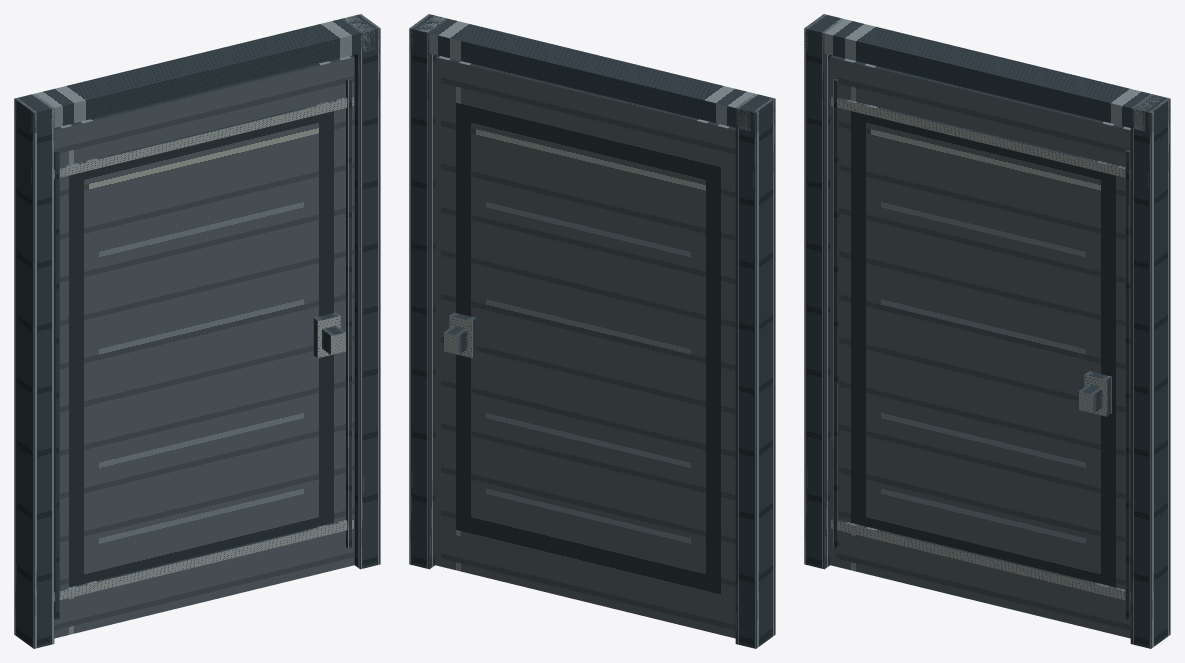
Rendered from puerta_electronica_opaca.glb.
The picture shows the model from 3 angles, left to right: view 1: azimuth 30°, elevation 25°; view 2: azimuth 150°, elevation 25°; view 3: azimuth 330°, elevation 25°; orthographic projection.
Parts seen in each view (by area): view 1: HOJA_PIVOTE, MARCO_FIJO; view 2: HOJA_PIVOTE, MARCO_FIJO; view 3: HOJA_PIVOTE, MARCO_FIJO.
Part boxes in pixels (box(x1,y1,x2,y2)): HOJA_PIVOTE: box(54, 55, 354, 638); MARCO_FIJO: box(14, 14, 380, 648); HOJA_PIVOTE: box(435, 55, 735, 638); MARCO_FIJO: box(409, 14, 775, 648); HOJA_PIVOTE: box(830, 55, 1130, 638); MARCO_FIJO: box(804, 14, 1170, 648).
Size of the model in its own units: 1.52 by 2.25 by 0.32.
1 material, 1 textured.
